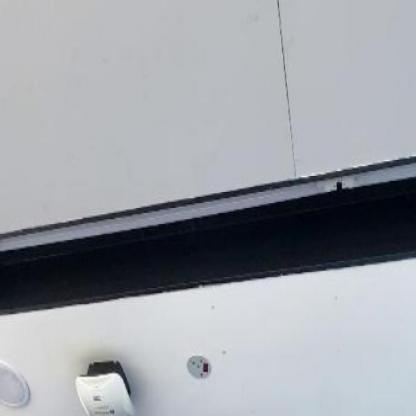light_off: (0, 57, 415, 291)
